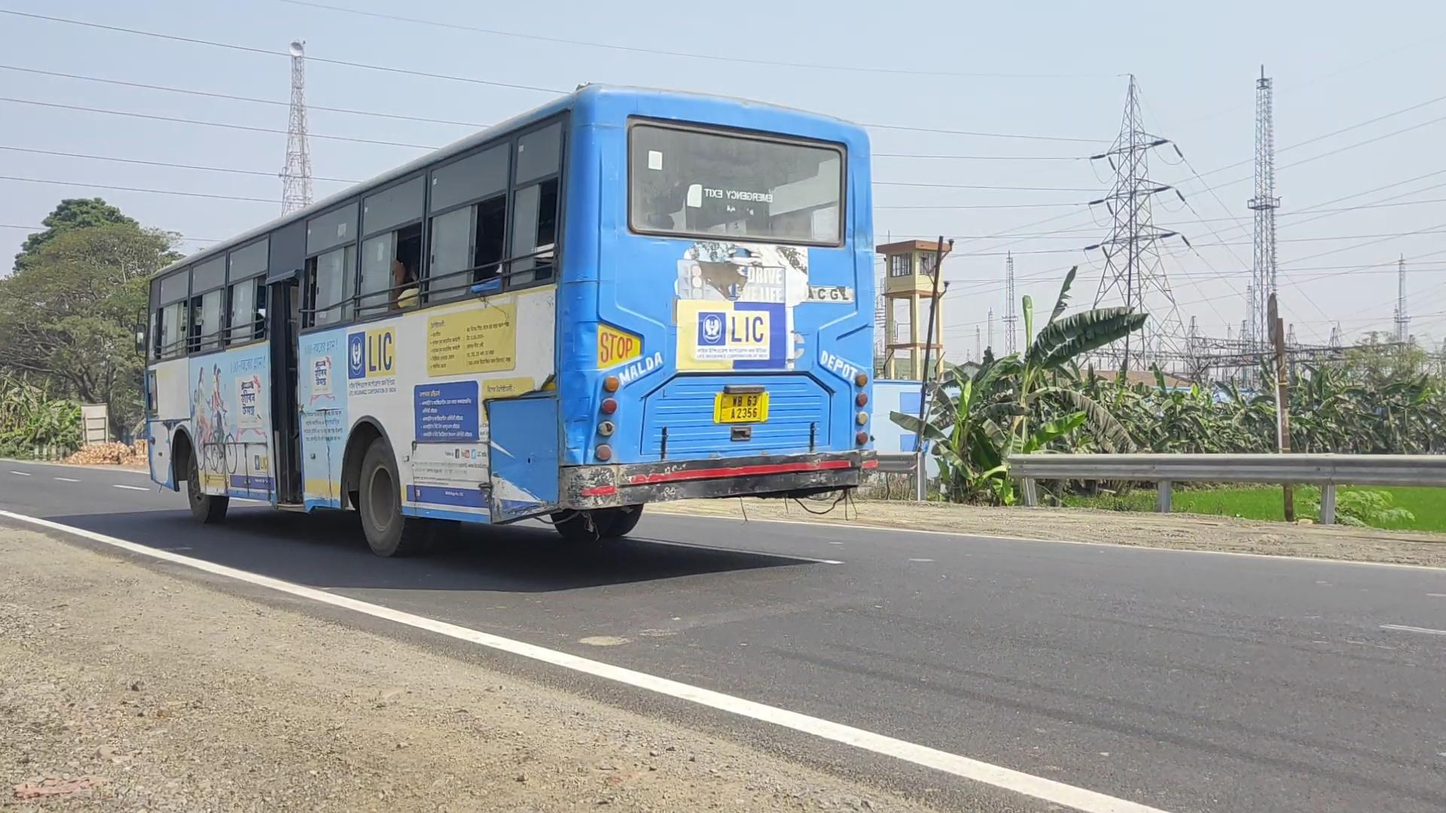Bus: (134, 83, 878, 559)
